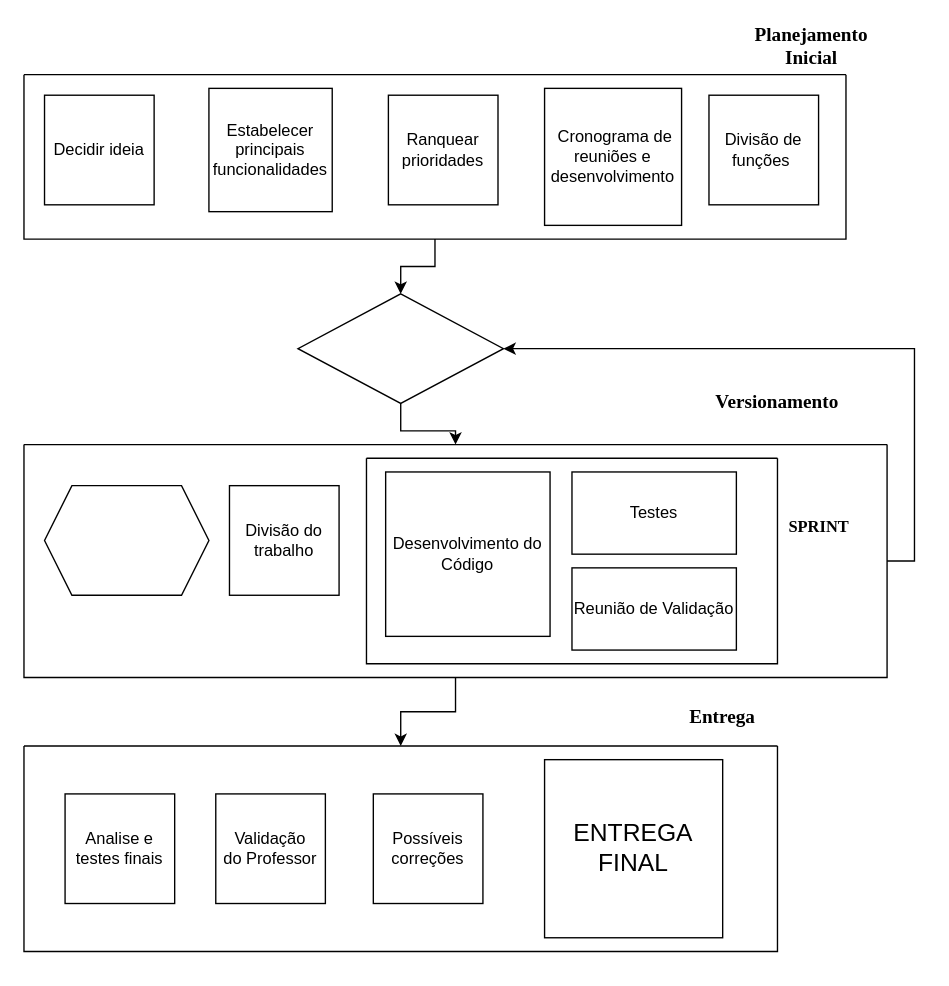
The diagram is 949 pixels wide and 986 high, and some of its shapes have lost their labels. The shapes that lost their labels are listed below. From the top down, each one's centre as x and y in pixels, then its label:
point (400, 347): Planejamento de versão
point (126, 539): Determinação das novas funcionalidades
